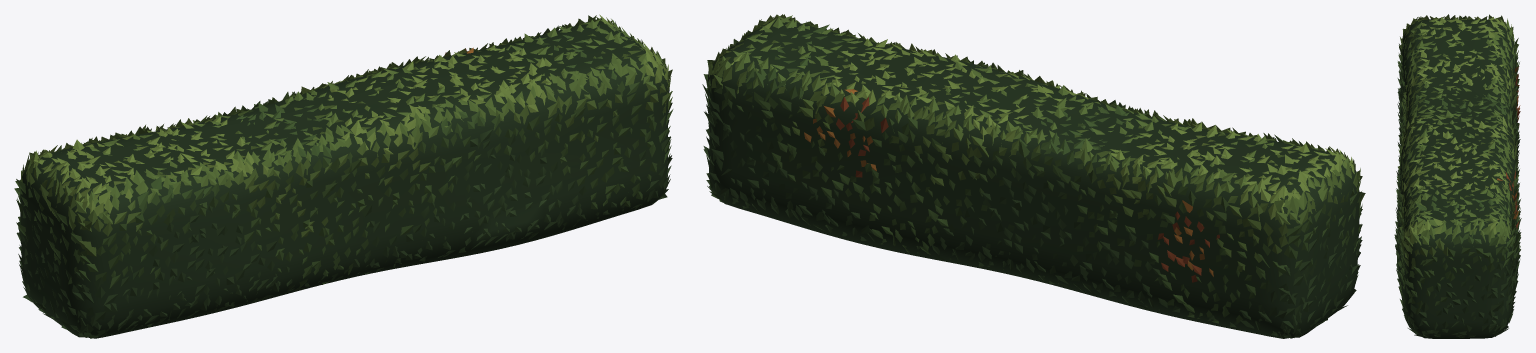
Rendered from hedge_b.glb.
The picture shows the model from 3 angles, left to right: view 1: azimuth 30°, elevation 25°; view 2: azimuth 150°, elevation 25°; view 3: azimuth 270°, elevation 25°; orthographic projection. The views are drawn at different scales.
Visible parts, largest first — view 1: foliage, leaves; view 2: foliage, leaves; view 3: foliage, leaves.
Boxes of the visible parts, <box> form: foliage: <box>20,21,669,338</box>; leaves: <box>14,14,673,338</box>; foliage: <box>708,19,1359,338</box>; leaves: <box>702,14,1365,338</box>; foliage: <box>1397,19,1518,338</box>; leaves: <box>1394,14,1521,337</box>.
Size of what is drawn, in the model's own units: 3.93 by 1 by 0.9488.
